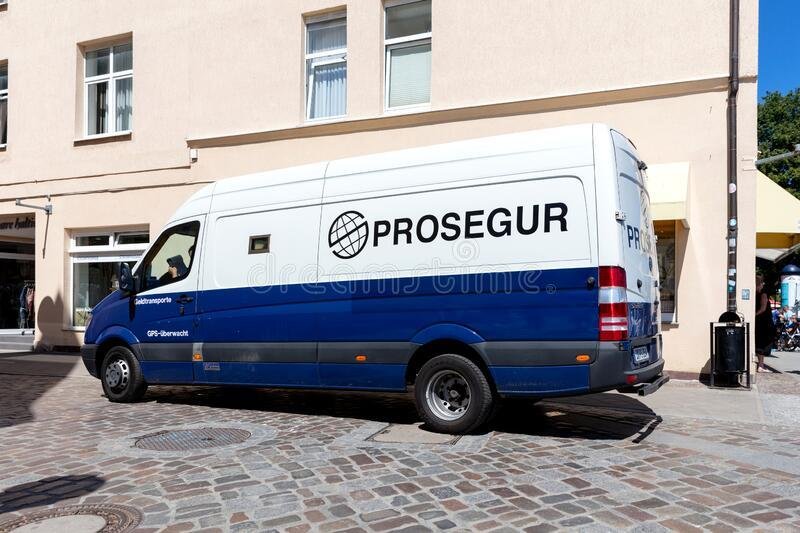vehicle: (80, 123, 671, 432)
